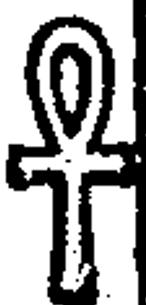Ankh: (5, 10, 137, 305)
